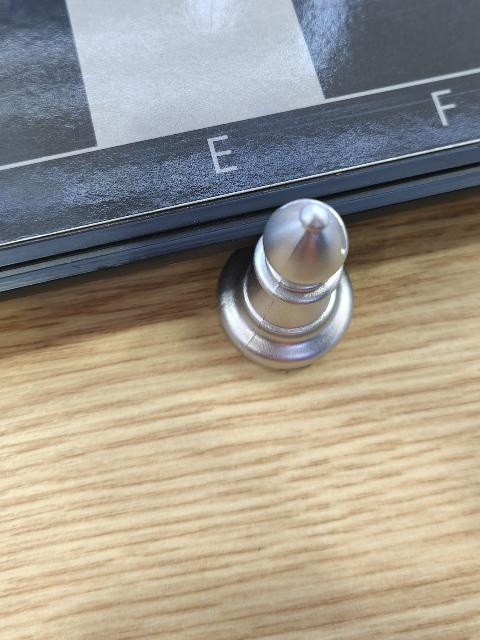white_bishop: (215, 195, 356, 368)
